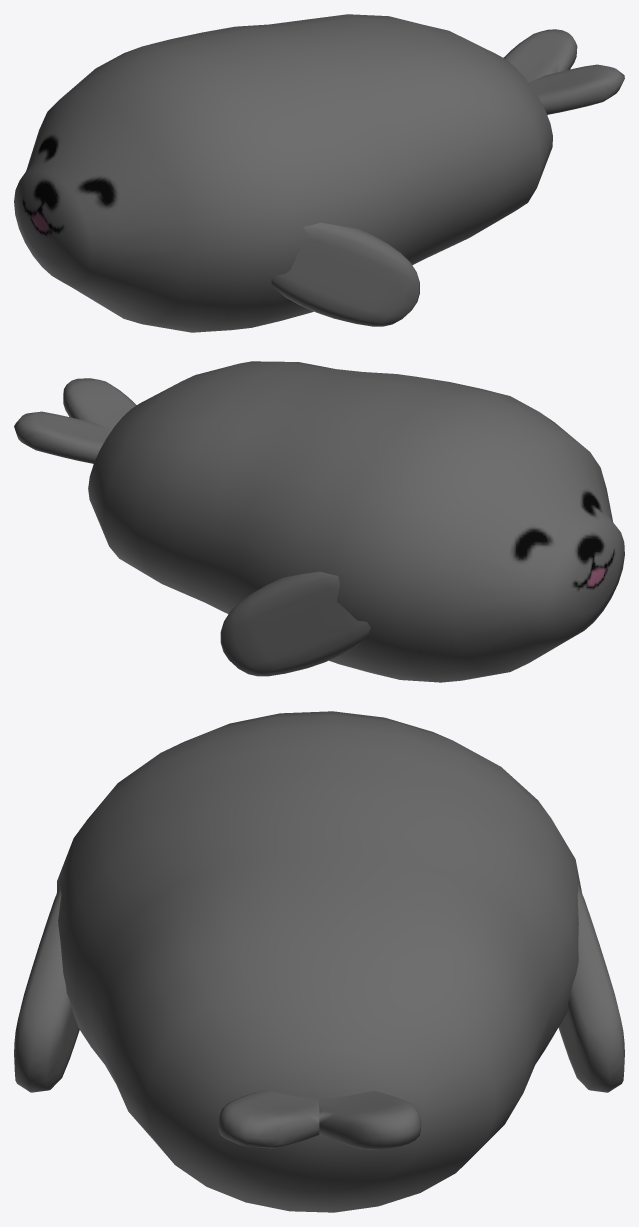
Rendered from Seal.gltf.
3 renders of one model, top to bottom at view 1: azimuth 30°, elevation 25°; view 2: azimuth 150°, elevation 25°; view 3: azimuth 270°, elevation 25°, orthographic. The views are drawn at different scales.
Visible parts, largest first — view 1: Sphere, Plane, Plane.001; view 2: Sphere, Plane, Plane.001; view 3: Sphere, Plane, Plane.001.
Boxes of the visible parts, bbox=[...] form: Sphere: bbox=[14, 14, 552, 332]; Plane: bbox=[271, 222, 419, 326]; Plane.001: bbox=[503, 29, 624, 114]; Sphere: bbox=[88, 361, 624, 682]; Plane: bbox=[220, 571, 370, 676]; Plane.001: bbox=[14, 378, 136, 463]; Sphere: bbox=[56, 711, 581, 1212]; Plane: bbox=[14, 884, 624, 1092]; Plane.001: bbox=[218, 1090, 421, 1149].
Size of the model in its own units: 3.45 by 1.47 by 2.32.
2 materials, 1 textured.
